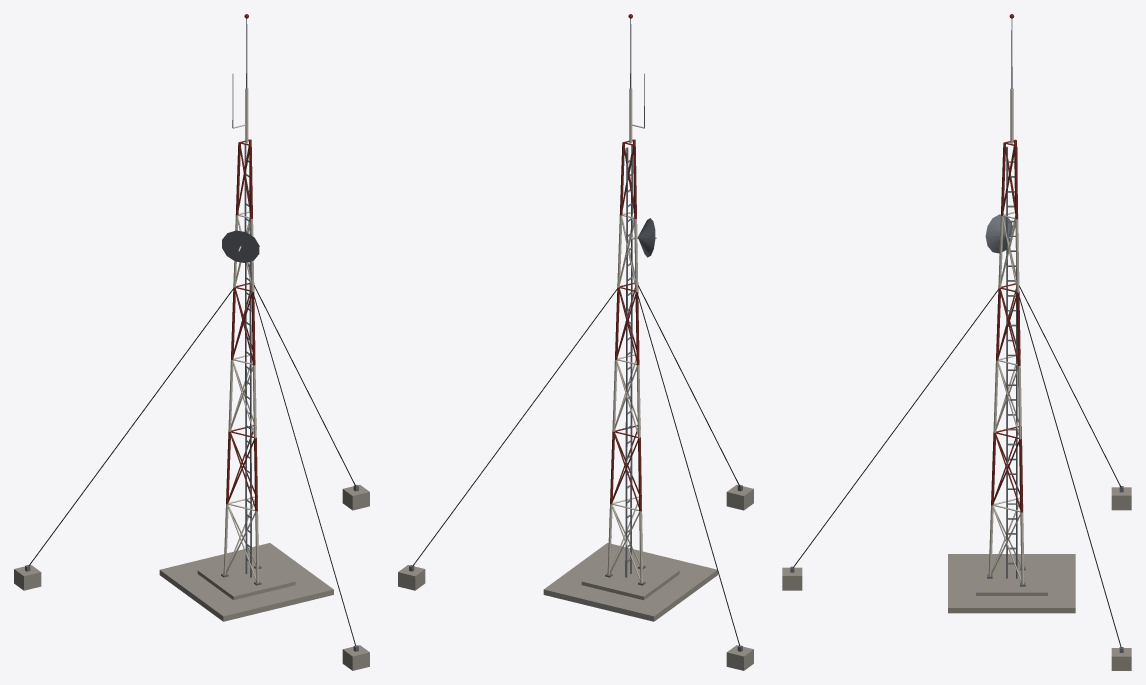
File: radio-communications-tower-about.glb
The picture shows the model from 3 angles, left to right: view 1: azimuth 30°, elevation 25°; view 2: azimuth 150°, elevation 25°; view 3: azimuth 270°, elevation 25°; orthographic projection.
Visible parts, largest first — view 1: Mesh_ConcreteBase_L1, Mesh_ConcreteBase_L2, Mesh_Dish, Mesh_ServiceLadderLeftRail, Mesh_ServiceLadderRightRail, Mesh_GuyWire_0, Mesh_AnchorBlock_1, Mesh_AnchorBlock_2, Mesh_AnchorBlock_0; view 2: Mesh_ConcreteBase_L1, Mesh_ConcreteBase_L2, Mesh_ServiceLadderLeftRail, Mesh_ServiceLadderRightRail, Mesh_GuyWire_1, Mesh_AnchorBlock_0, Mesh_AnchorBlock_1, Mesh_AnchorBlock_2; view 3: Mesh_ConcreteBase_L1, Mesh_ConcreteBase_L2, Mesh_ServiceLadderRightRail, Mesh_Dish, Mesh_GuyWire_2, Mesh_ServiceLadderLeftRail.
Part boxes in pixels (box(x1,y1,x2,y2)): Mesh_ConcreteBase_L1: box(159, 543, 333, 621); Mesh_ConcreteBase_L2: box(197, 555, 295, 600); Mesh_Dish: box(222, 230, 259, 262); Mesh_ServiceLadderLeftRail: box(244, 145, 247, 573); Mesh_ServiceLadderRightRail: box(249, 174, 251, 577); Mesh_GuyWire_0: box(253, 293, 355, 645); Mesh_AnchorBlock_1: box(14, 565, 41, 590); Mesh_AnchorBlock_2: box(342, 484, 369, 510); Mesh_AnchorBlock_0: box(342, 645, 369, 670); Mesh_ConcreteBase_L1: box(543, 543, 717, 621); Mesh_ConcreteBase_L2: box(581, 555, 679, 600); Mesh_ServiceLadderLeftRail: box(625, 147, 628, 577); Mesh_ServiceLadderRightRail: box(630, 145, 632, 573); Mesh_GuyWire_1: box(637, 293, 739, 645); Mesh_AnchorBlock_0: box(726, 484, 753, 510); Mesh_AnchorBlock_1: box(726, 645, 753, 670); Mesh_AnchorBlock_2: box(398, 565, 425, 590); Mesh_ConcreteBase_L1: box(948, 554, 1075, 613); Mesh_ConcreteBase_L2: box(976, 562, 1047, 595); Mesh_ServiceLadderRightRail: box(1006, 146, 1007, 578); Mesh_Dish: box(985, 214, 1012, 253); Mesh_GuyWire_2: box(1018, 294, 1121, 647); Mesh_ServiceLadderLeftRail: box(1016, 147, 1017, 578).
Bounding box in the file's own units: 10.03 × 15.81 × 8.75.
1 material, 1 textured.
